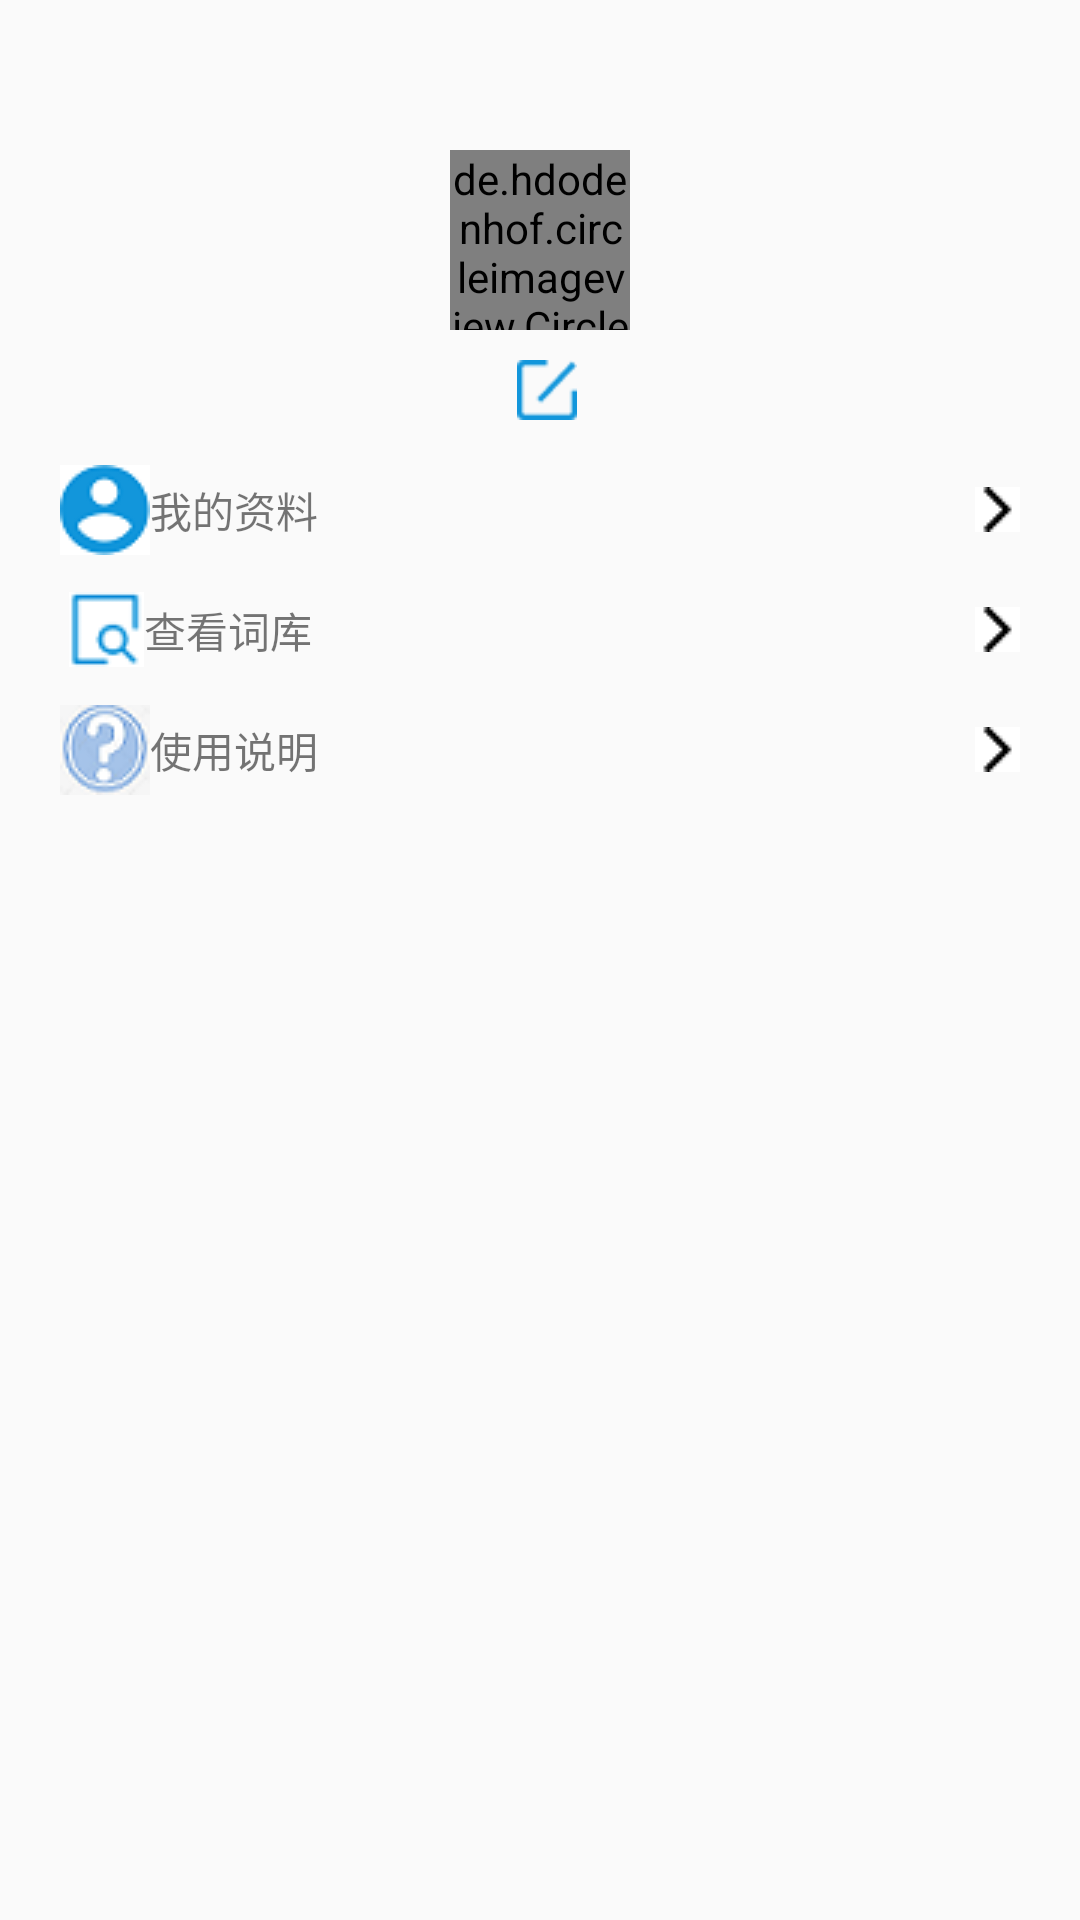

Icons on this 1080x1920 Android screen, each with the point to tap as (x,y):
rewrite: (547,390)
